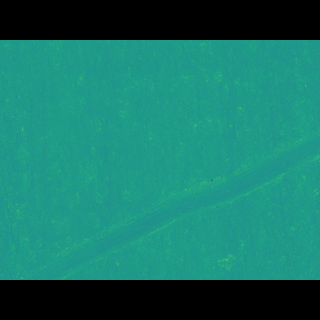Loch: (16, 136, 320, 250)
